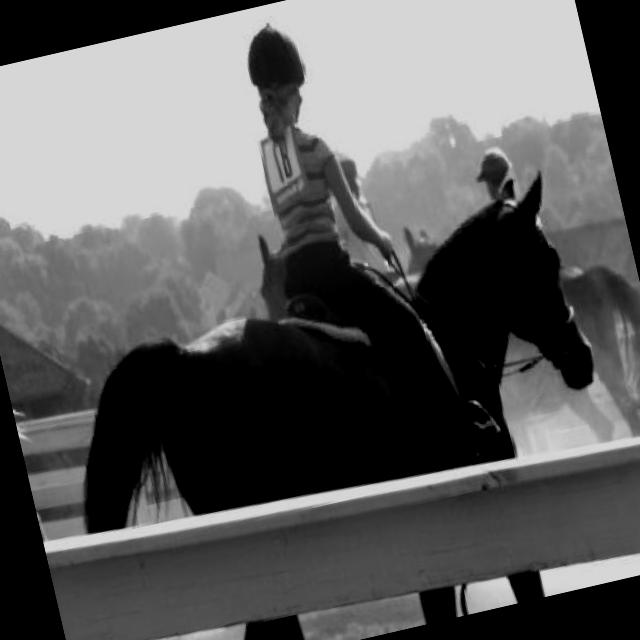Person: (235, 0, 502, 491), (318, 160, 392, 290)
